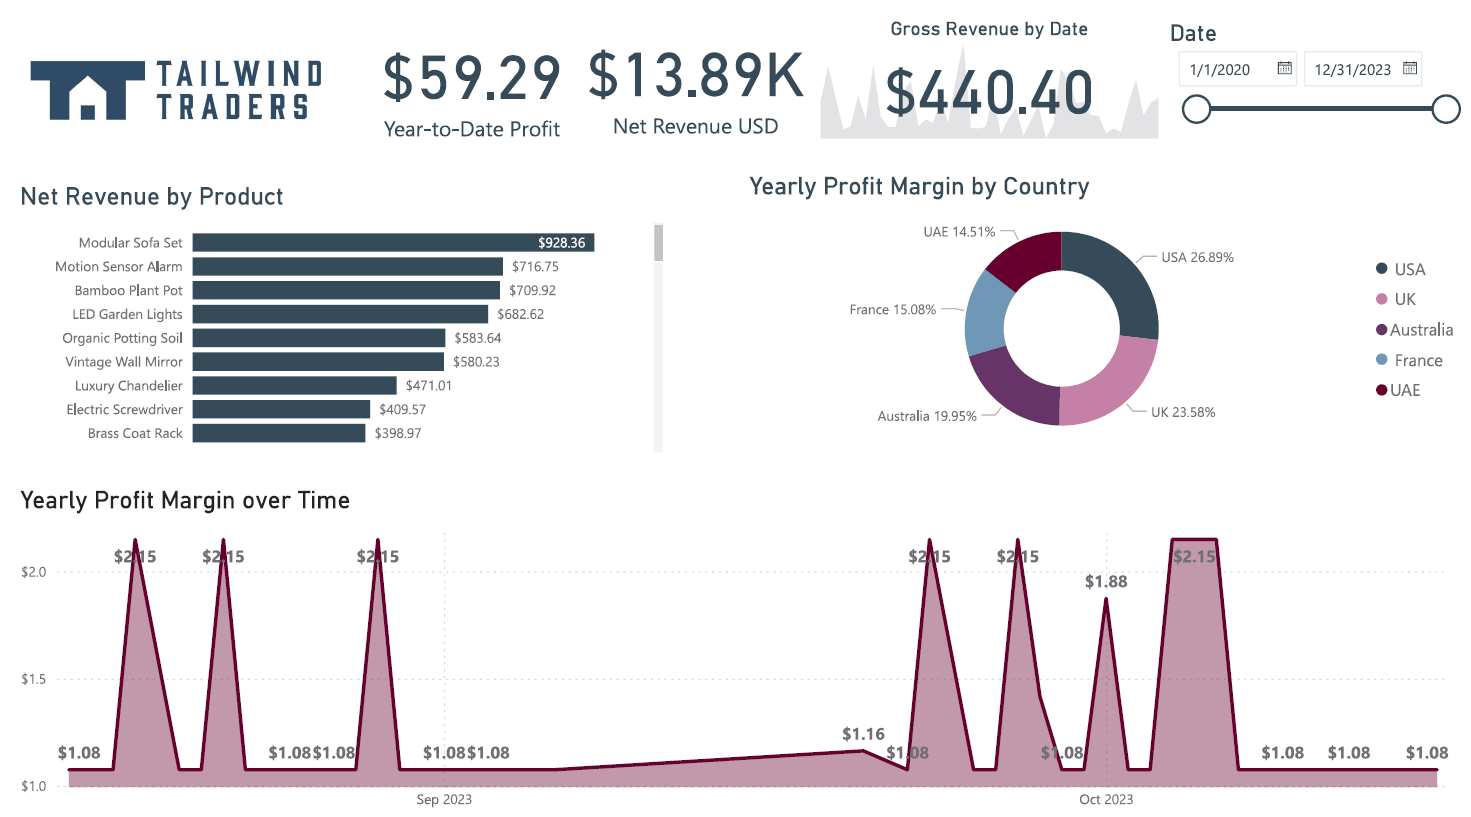

The page's visual inventory and layout, read from the dashboard file:
{"tool":"powerbi","page":{"name":"Profit Overview","canvas":[1280,720],"ordinal":1},"visuals":[{"type":"clusteredBarChart","title":"Net Revenue by Product","fields":{"Category":["Sales in USD.Product Name"],"Y":["Sum(Sales in USD.Net Revenue USD)"]},"box":[0,159,574.7,243.3],"z":0},{"type":"donutChart","title":"Yearly Profit Margin by Country","fields":{"Category":["Sales in USD.Country Name"],"Y":["Sales in USD.Yearly Profit Margin"]},"box":[640.8,150.4,639.5,251.9],"z":1000},{"type":"areaChart","title":"Yearly Profit Margin over Time","fields":{"Category":["Calendar.Date"],"Y":["Sales in USD.Yearly Profit Margin"]},"box":[0,425.5,1280.3,294.7],"z":2000},{"type":"card","fields":{"Values":["Sales in USD.YTD Profit"]},"box":[311.2,5,182.5,135],"z":3000},{"type":"card","fields":{"Values":["Sum(Sales in USD.Net Revenue USD)"]},"box":[493.8,0,210,140],"z":4000},{"type":"kpi","title":"Gross Revenue by Date","fields":{"Indicator":["Sum(Sales in USD.Gross Revenue USD)"],"TrendLine":["Calendar.Date"]},"box":[703.8,13.8,307.5,112.5],"z":5000},{"type":"slicer","title":"Date","fields":{"Values":["Calendar.Date"]},"box":[1011.2,16.2,268.8,107.5],"z":6000},{"type":"image","box":[0,30,283.8,96.2],"z":6001}]}

Visuals, with their boxes in screenshot pixels (x1, y1, x2, y2), scaled from the page's 1280x720 canvas onto the 1471x817 screenshot:
"Net Revenue by Product" clusteredBarChart: 0/180/660/456
"Yearly Profit Margin by Country" donutChart: 736/171/1470/456
"Yearly Profit Margin over Time" areaChart: 0/483/1470/816
card - Sales in USD.YTD Profit: 358/6/567/159
card - Sum(Sales in USD.Net Revenue USD): 567/0/809/159
"Gross Revenue by Date" kpi: 809/16/1162/143
"Date" slicer: 1162/18/1470/140
image: 0/34/326/143
